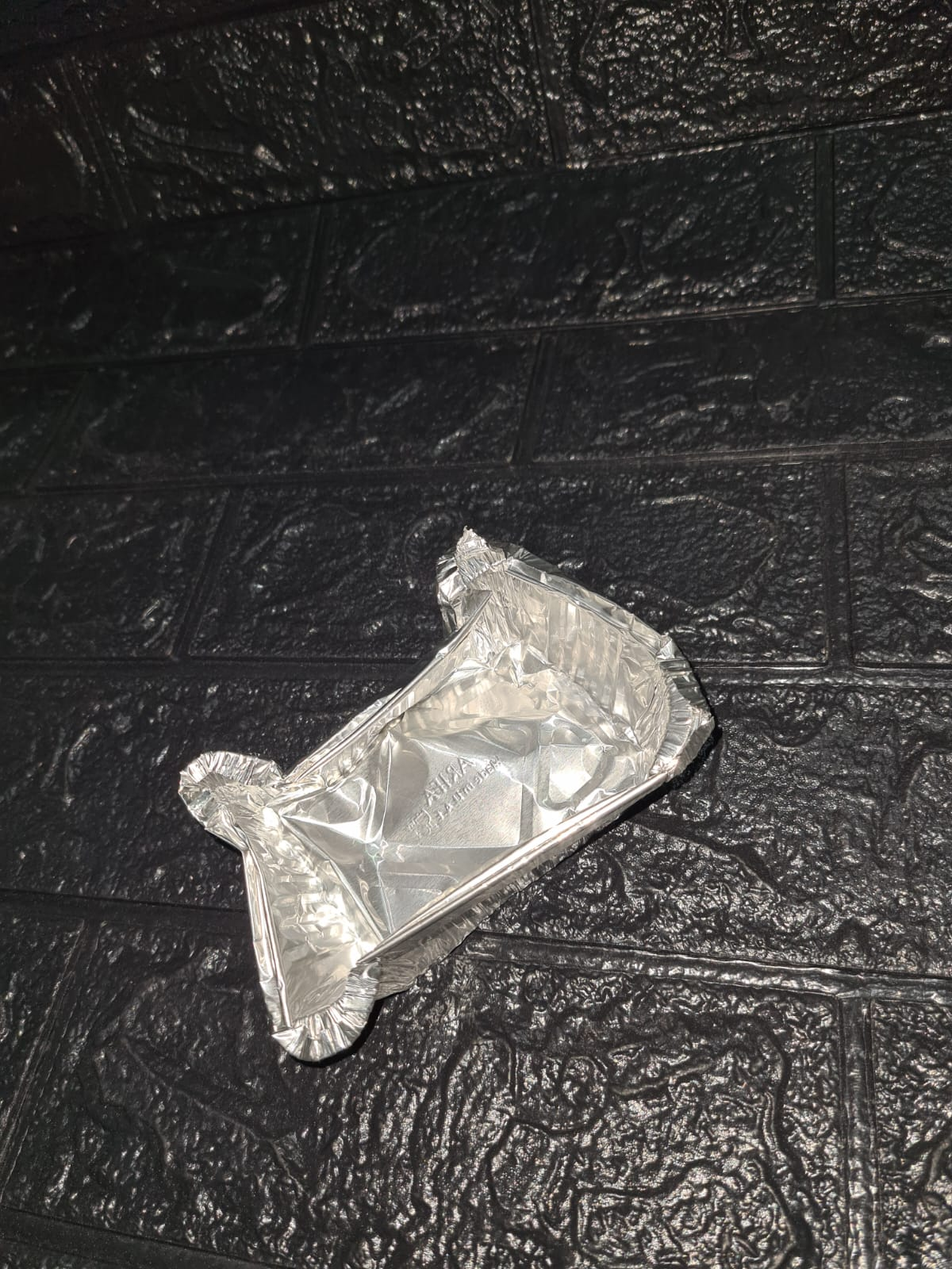Metal: (180, 535, 734, 1076)
